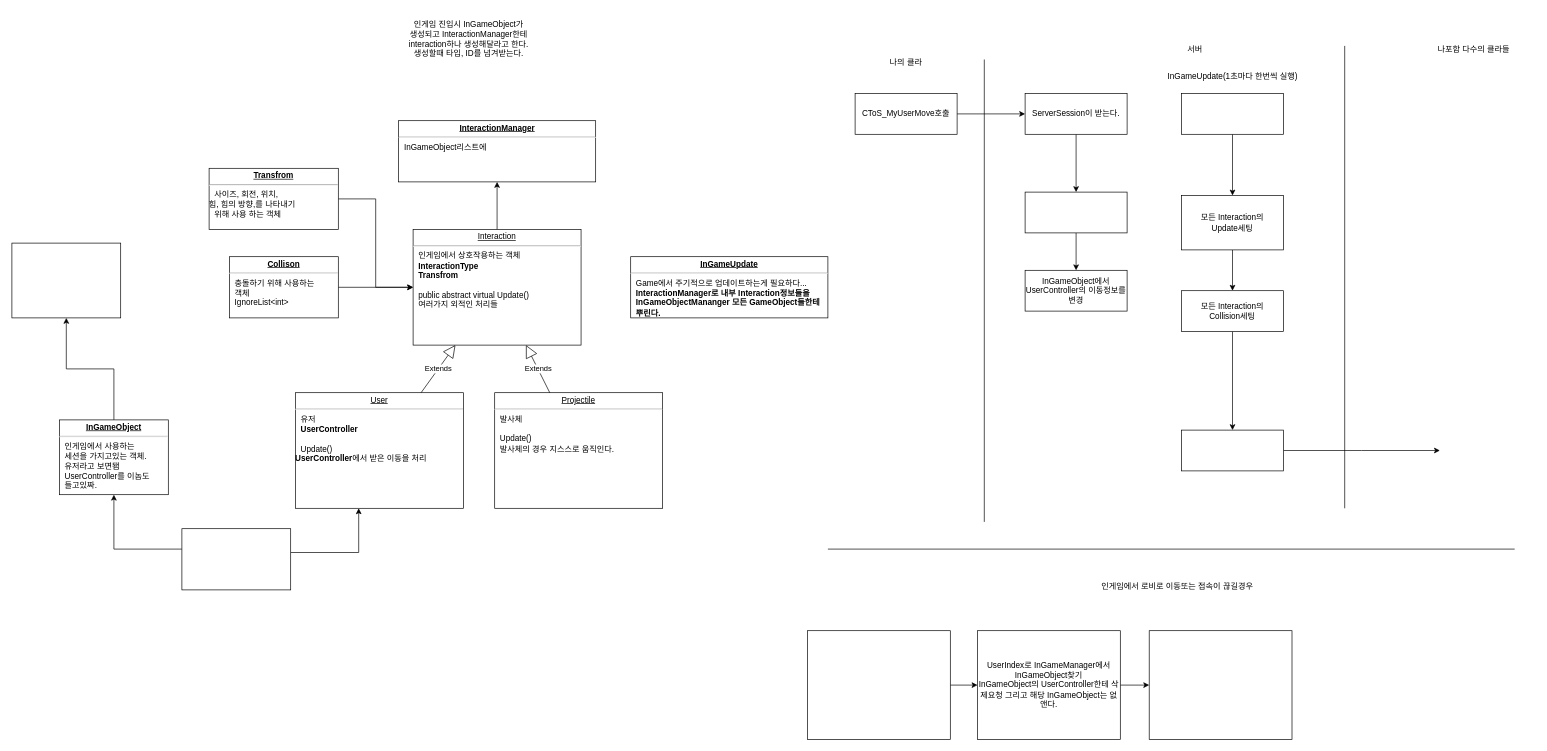
Some shapes in this 1547 by 751 pixel diagram are drawn without their labels. The shapes that lost their labels are listed below. From the top down, each one's centre as x and y in pixels, then its label:
At [1232,113]: "interactionManager에서를 순회하며 Interaction에 접근".
At [1075,212]: "ServerSessionIndex로 InGameManager에서 InGameObject를 찾는다.".
At [66,280]: "InGameManager map<int,InGameObject> int = UserIndex".
At [1232,450]: "모든 Interaction을 InGameObject들한테 패킷 전송".
At [236,559]: "UserController 유저 컨트롤러".
At [878,685]: "세션이 끊겼을경우 인게임에서 나갈경우".
At [1220,685]: "InGameUpdate에서 Update하면서 삭제".
